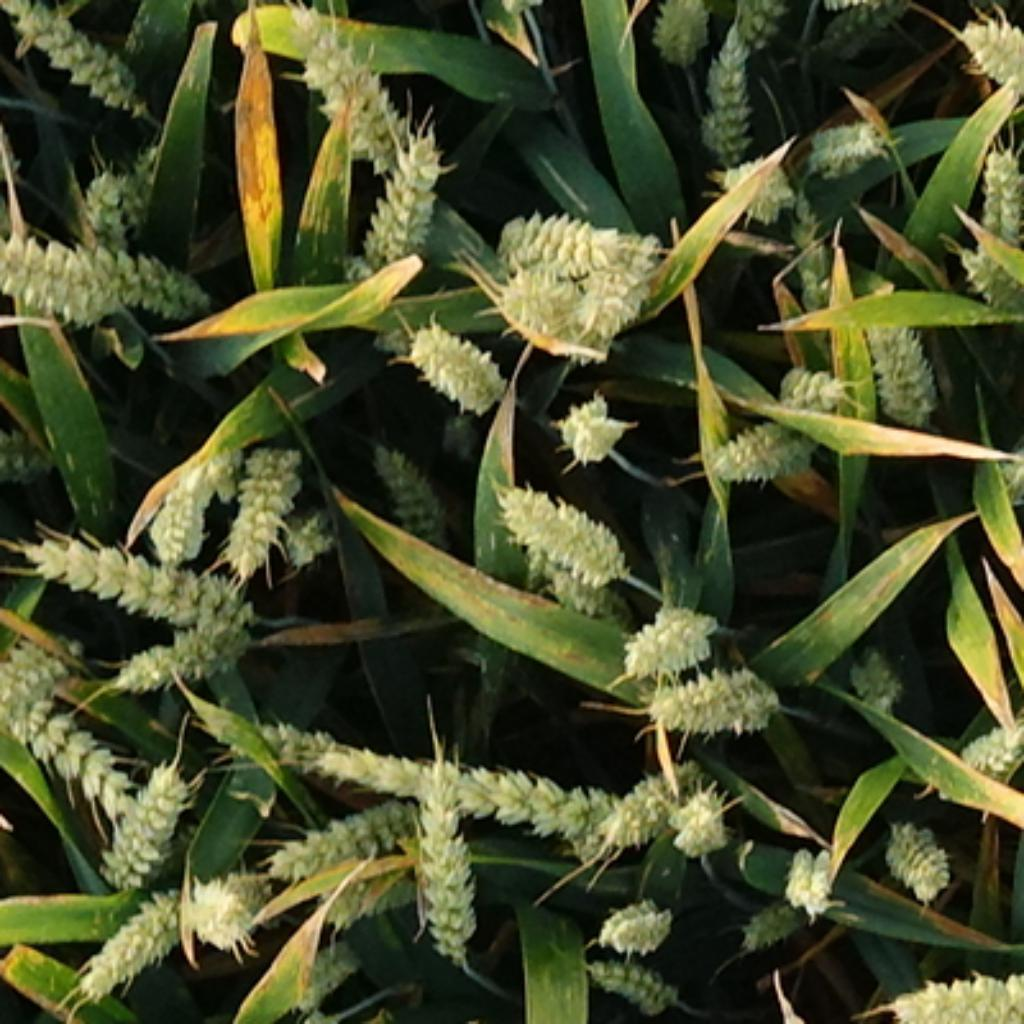0-0: (268, 2, 445, 176), (424, 742, 678, 852), (17, 524, 261, 632), (230, 709, 455, 796), (488, 465, 629, 593), (2, 2, 153, 117), (345, 130, 455, 279), (271, 785, 430, 885), (12, 698, 148, 811), (79, 872, 207, 988), (399, 796, 483, 954), (94, 752, 197, 880), (640, 652, 791, 732), (220, 432, 307, 565), (491, 202, 645, 276), (0, 229, 122, 322), (110, 619, 256, 696), (140, 432, 230, 552), (399, 307, 509, 404), (698, 399, 826, 481), (596, 747, 706, 841), (74, 143, 174, 245), (73, 252, 209, 326), (857, 307, 947, 417), (578, 223, 662, 337), (691, 28, 762, 158), (363, 432, 455, 532), (616, 591, 719, 673), (952, 2, 1024, 112), (2, 629, 94, 714), (174, 860, 266, 944), (546, 391, 635, 475), (872, 806, 957, 893), (312, 867, 430, 929), (542, 555, 640, 624), (578, 944, 680, 1008), (790, 197, 839, 314), (719, 143, 798, 215), (956, 239, 1024, 318), (970, 140, 1024, 238), (774, 357, 861, 416), (665, 773, 732, 849), (593, 903, 678, 962), (952, 704, 1024, 773), (778, 834, 839, 908), (796, 116, 880, 168), (737, 883, 811, 942), (642, 2, 716, 61), (275, 504, 339, 568), (853, 656, 903, 715), (0, 438, 61, 483), (510, 273, 565, 317), (1018, 158, 1024, 266)
